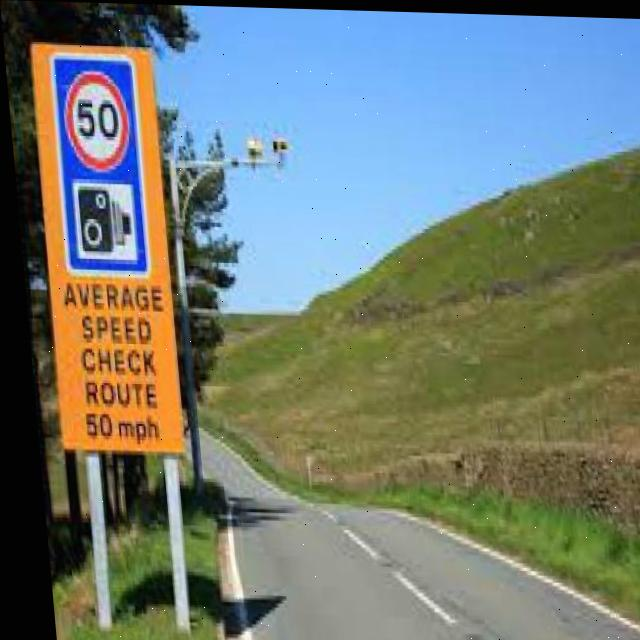Speed limit 50: (58, 66, 135, 174)
